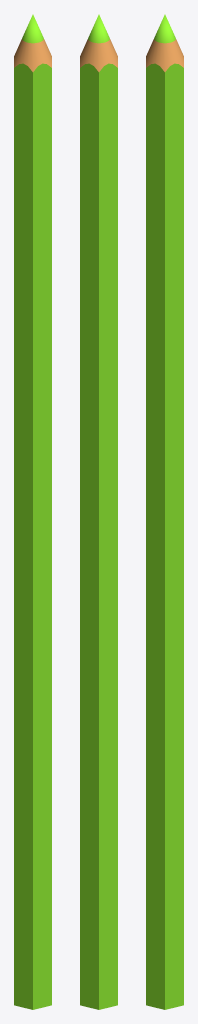
Rendered from potlood-Lgroen.fbx.
3 renders of one model, left to right at view 1: azimuth 30°, elevation 25°; view 2: azimuth 210°, elevation 25°; view 3: azimuth 270°, elevation 25°, orthographic.
Visible parts, largest first — view 1: Model; view 2: Model; view 3: Model.
Part boxes in pixels (x1,y1,x2,y2): Model: [14, 14, 51, 1009]; Model: [80, 14, 117, 1009]; Model: [146, 14, 183, 1009].
Size of the model in its own units: 80 by 2000 by 69.28.
